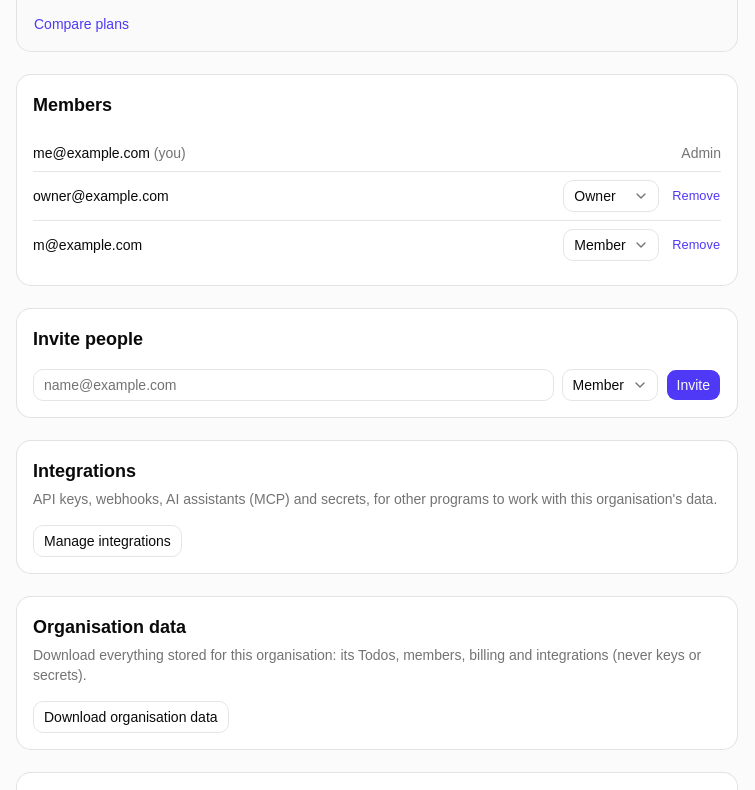
OrganisationPage › sends an invitation
The width and height of the screenshot is (755, 790).
(page scrolled)
In the field named "Email to invite": coordinates (293, 385) top-left (33, 369), bottom-right (554, 401), type "new@example.com"
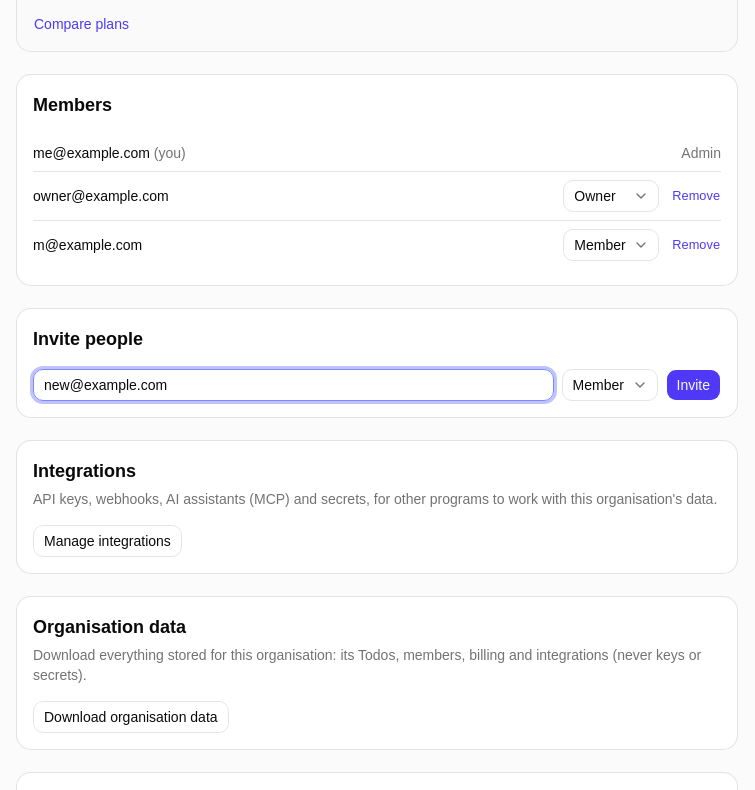
Select "Admin" in the 3rd dropdown named "Role": coordinates (610, 385) top-left (562, 369), bottom-right (658, 401)
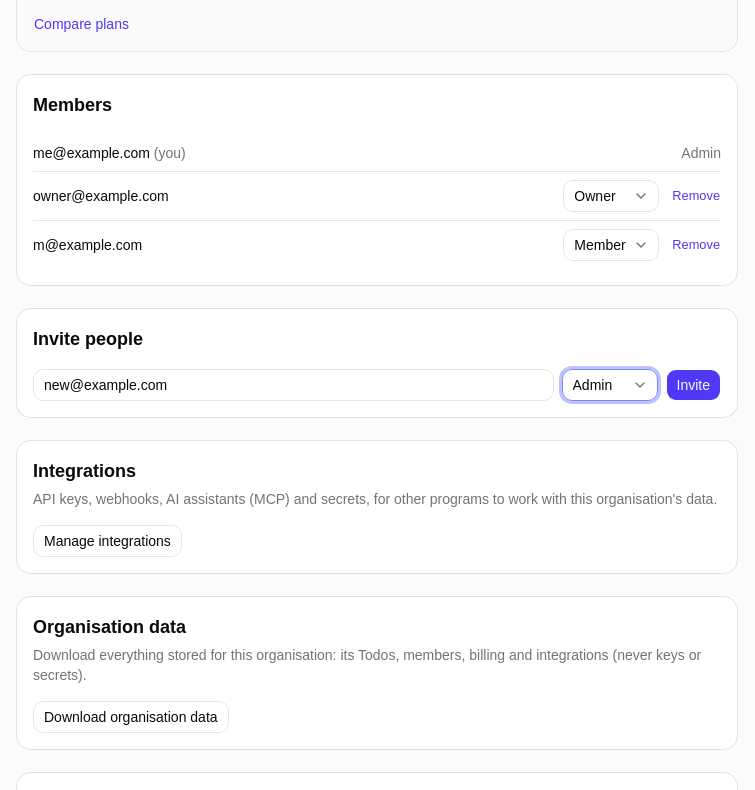
Click the button "Invite": coordinates (693, 385) top-left (666, 369), bottom-right (721, 401)
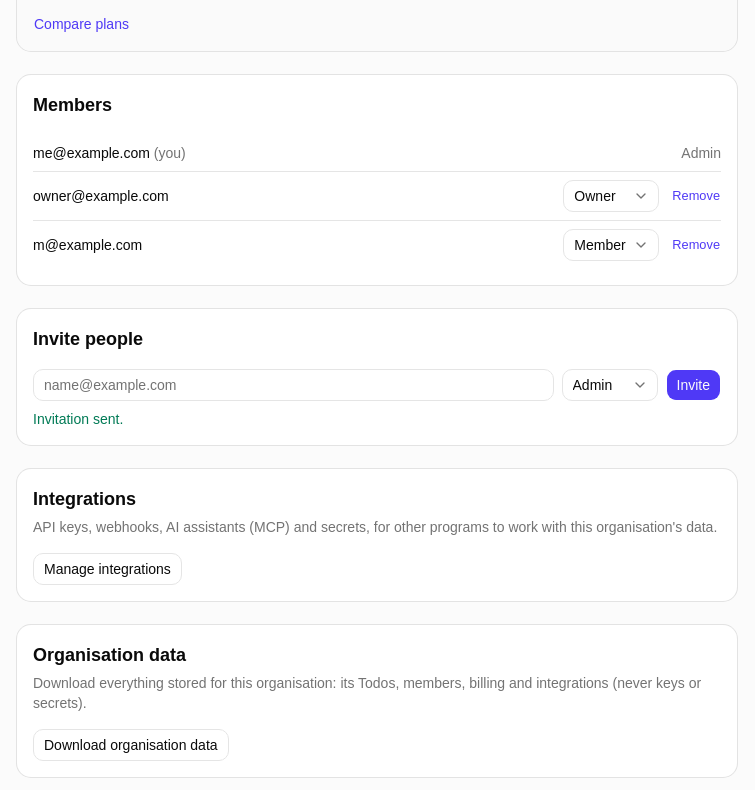
Check: the message reads "Invitation sent.", box top-left (33, 411), bottom-right (123, 427)
